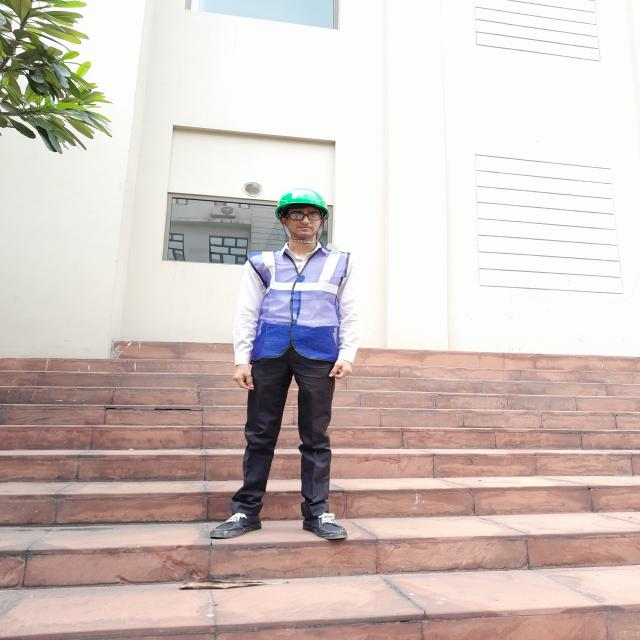safe: (231, 188, 359, 538)
